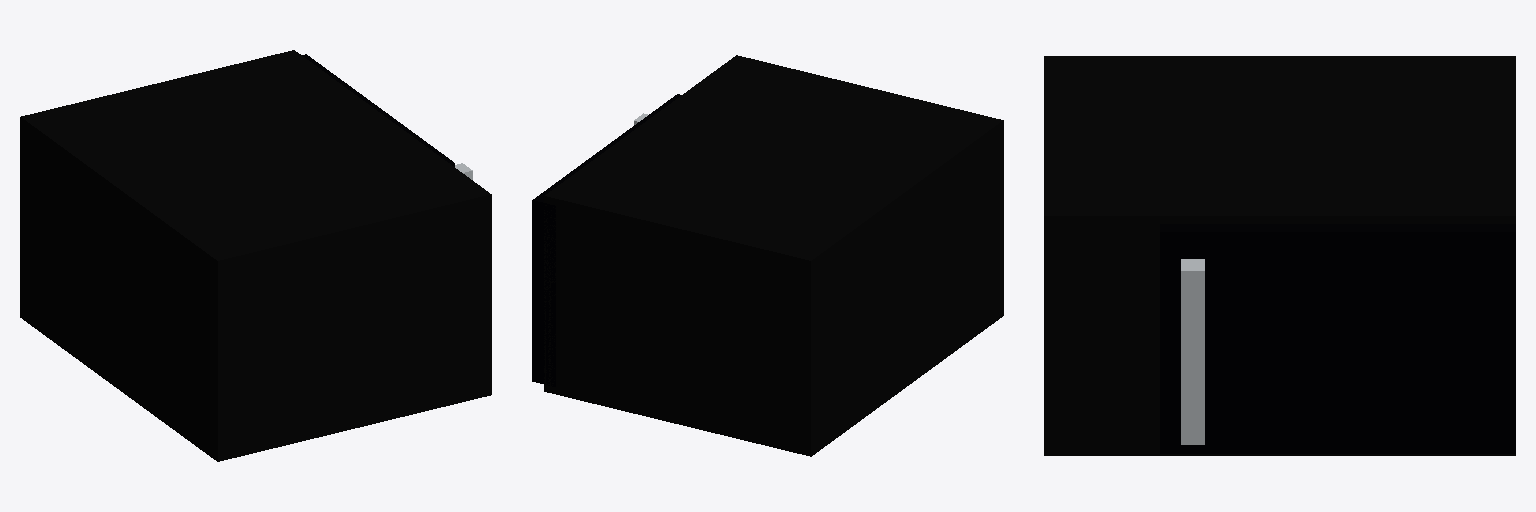
robot.urdf — samsung_microwave:
<?xml version="1.0"?>
<robot name="samsung_microwave">
  <material name="black">
    <color rgba="0.05 0.05 0.05 1.0"/>
  </material>
  <material name="glass_black">
    <color rgba="0.02 0.02 0.03 1.0"/>
  </material>
  <material name="silver">
    <color rgba="0.75 0.77 0.78 1.0"/>
  </material>

  <!-- Main chassis: 0.489m wide (y), 0.275m high (z), 0.392m deep (x) -->
  <link name="base_link">
    <inertial>
      <mass value="12.0"/>
      <origin xyz="0 0 0" rpy="0 0 0"/>
      <inertia ixx="0.3147" ixy="0" ixz="0" iyy="0.2293" iyz="0" izz="0.3927"/>
    </inertial>
    <visual>
      <origin xyz="0 0 0" rpy="0 0 0"/>
      <geometry>
        <box size="0.392 0.489 0.275"/>
      </geometry>
      <material name="black"/>
    </visual>
    <collision>
      <origin xyz="0 0 0" rpy="0 0 0"/>
      <geometry>
        <box size="0.392 0.489 0.275"/>
      </geometry>
    </collision>
  </link>

  <!-- Door: covers left ~0.369m of front, hinged on left edge -->
  <link name="door">
    <inertial>
      <mass value="1.8"/>
      <origin xyz="0 -0.1845 0" rpy="0 0 0"/>
      <inertia ixx="0.0302" ixy="0" ixz="0" iyy="0.0099" iyz="0" izz="0.0206"/>
    </inertial>
    <visual>
      <origin xyz="0 -0.1845 0" rpy="0 0 0"/>
      <geometry>
        <box size="0.035 0.369 0.255"/>
      </geometry>
      <material name="glass_black"/>
    </visual>
    <collision>
      <origin xyz="0 -0.1845 0" rpy="0 0 0"/>
      <geometry>
        <box size="0.035 0.369 0.255"/>
      </geometry>
    </collision>
  </link>

  <!-- Vertical pull handle on right edge of door -->
  <link name="handle">
    <inertial>
      <mass value="0.3"/>
      <origin xyz="0 0 0" rpy="0 0 0"/>
      <inertia ixx="0.00102" ixy="0" ixz="0" iyy="0.00102" iyz="0" izz="0.000045"/>
    </inertial>
    <visual>
      <origin xyz="0 0 0" rpy="0 0 0"/>
      <geometry>
        <box size="0.03 0.025 0.20"/>
      </geometry>
      <material name="silver"/>
    </visual>
    <collision>
      <origin xyz="0 0 0" rpy="0 0 0"/>
      <geometry>
        <box size="0.03 0.025 0.20"/>
      </geometry>
    </collision>
  </link>

  <!-- Revolute hinge: left front vertical edge. 0=closed, + opens forward -->
  <joint name="door_hinge" type="revolute">
    <parent link="base_link"/>
    <child link="door"/>
    <origin xyz="0.196 0.2445 0" rpy="0 0 0"/>
    <axis xyz="0 0 1"/>
    <limit lower="0" upper="1.9" effort="20" velocity="3.0"/>
    <dynamics damping="0.2" friction="0.1"/>
  </joint>

  <joint name="handle_mount" type="fixed">
    <parent link="door"/>
    <child link="handle"/>
    <origin xyz="0.04 -0.335 0" rpy="0 0 0"/>
  </joint>
</robot>

--- What the picture shows (computed from the rendered views, not written in the file) ---
Views: 3 orthographic renders of the robot side by side, from view 1: azimuth 30°, elevation 25°; view 2: azimuth 150°, elevation 25°; view 3: azimuth 270°, elevation 25°.
Model samsung_microwave with 3 links and 2 joints (1 revolute, 1 fixed), rooted at base_link, posed every joint at zero.
Links seen in each view (by area): view 1: base_link, door; view 2: base_link, door; view 3: base_link, door, handle.
Link boxes in pixels (left/top/right/bottom): base_link: left=20, top=50, right=491, bottom=461; door: left=302, top=54, right=454, bottom=166; base_link: left=544, top=55, right=1003, bottom=456; door: left=532, top=94, right=680, bottom=386; base_link: left=1044, top=56, right=1515, bottom=455; door: left=1160, top=224, right=1515, bottom=453; handle: left=1181, top=259, right=1204, bottom=444.
Bounding box of the posed robot: 0.447 × 0.489 × 0.275 m (x, y, z).
Geometry: primitives only (box / cylinder / sphere), no mesh files.
